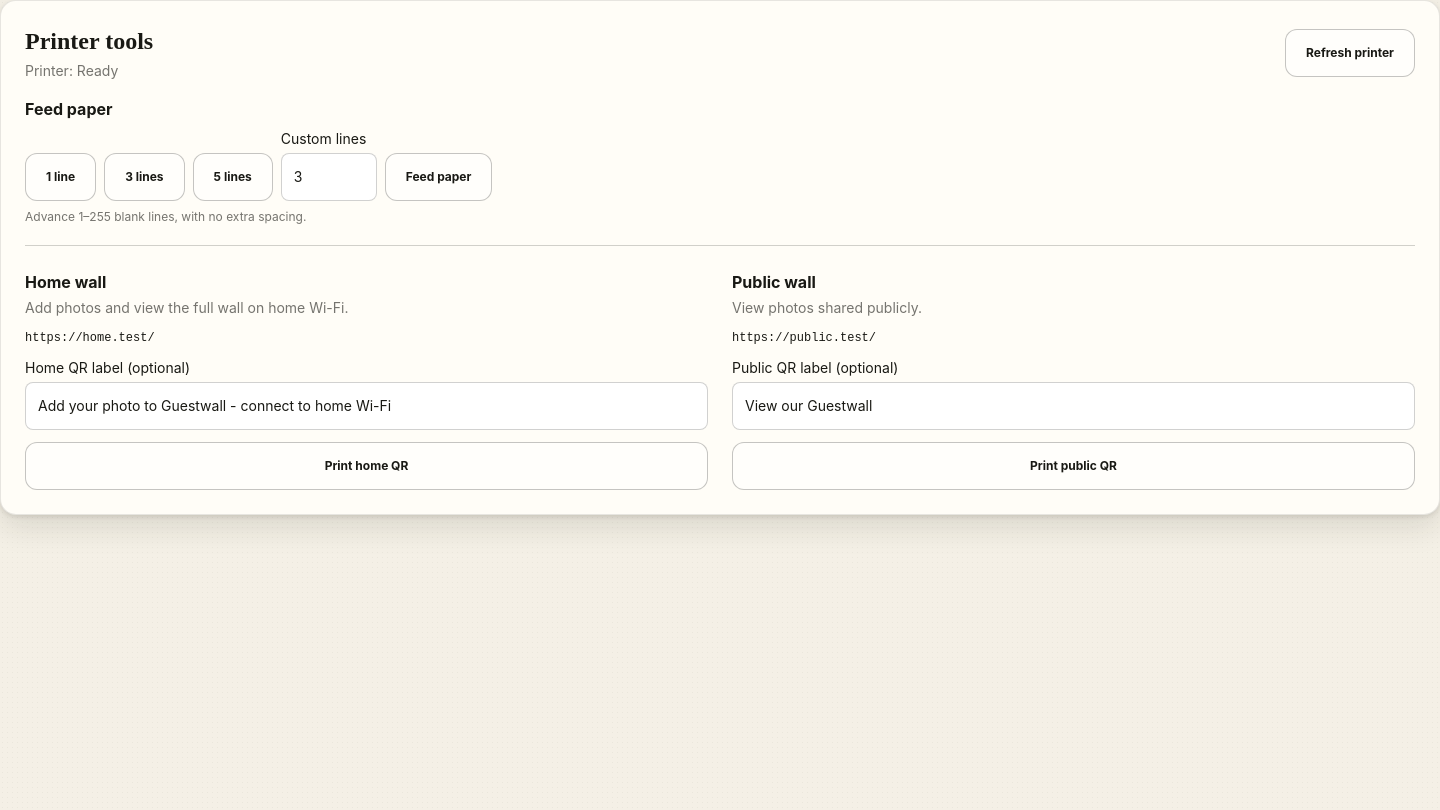
Test case: shows uncertain outcomes without automatically retrying
expect the text "Printer: Ready" is shown: met, box left=25, top=62, right=118, bottom=79
Click the button "3 lines".
click(144, 177)  # box left=104, top=153, right=185, bottom=201
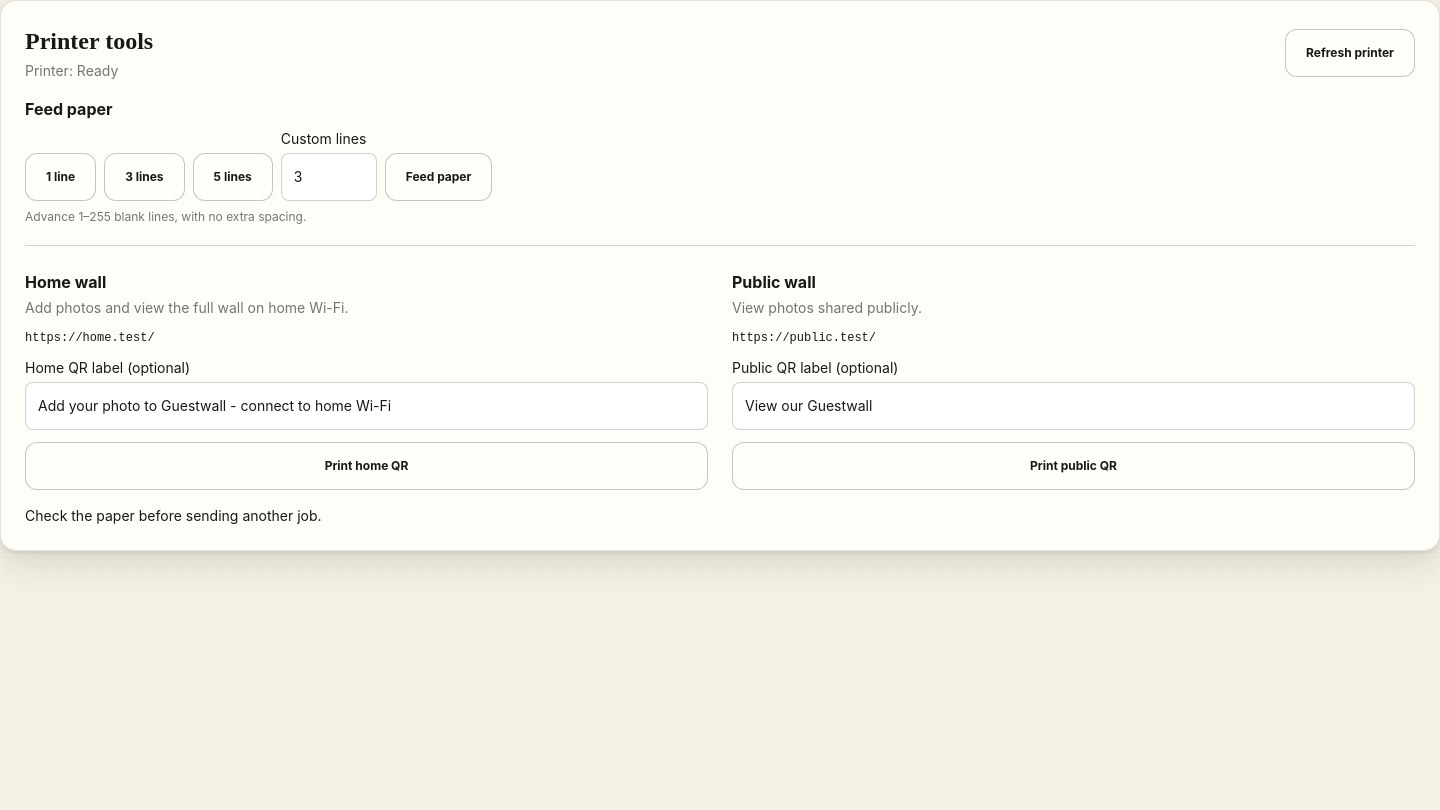
expect the text "Check the paper before sending another job." is shown: met, box left=25, top=507, right=322, bottom=524
